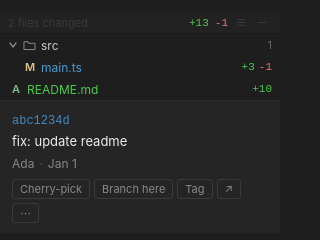
DetailPane — folder toggle › clicking a folder row collapses and re-expands its files
The image size is (320, 240).
Expected: the text "main.ts" is shown, [41, 60, 82, 74]
Click the text "src".
click(50, 45)  # box [41, 38, 58, 52]
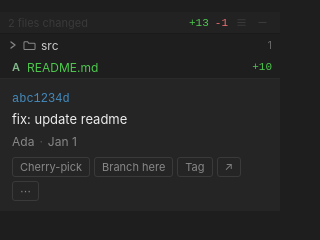
Expected: the option "main.ts" is gone
Click the text "src".
click(50, 45)  # box [41, 38, 58, 52]
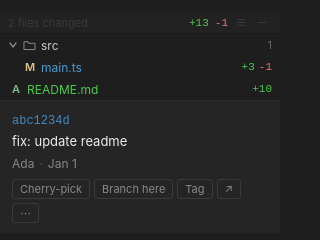
Expected: the text "main.ts" is shown, [41, 60, 82, 74]
